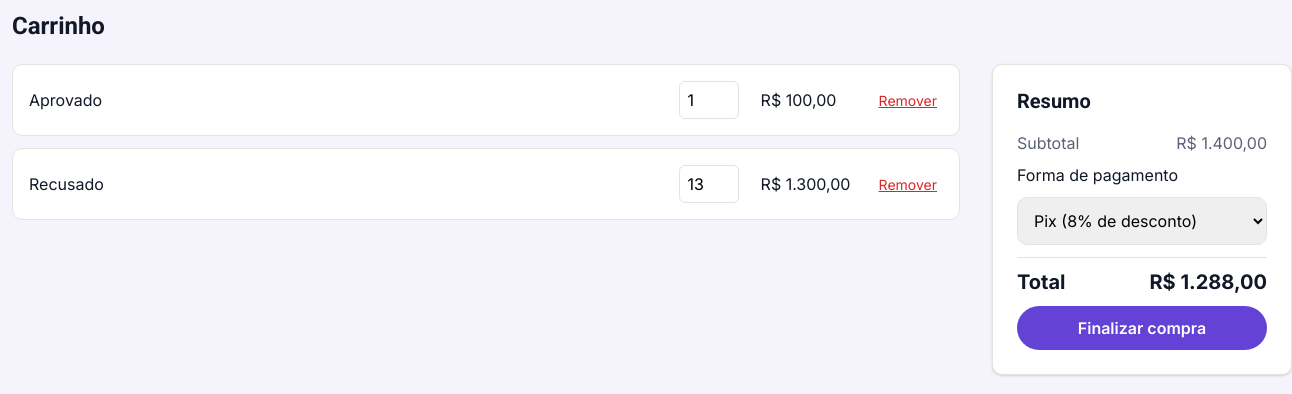
Test: Cart › mostra resultado misto quando um item aprova e outro é recusado
Step 1. Click the button "Finalizar compra" → coordinates (1142, 328), box left=1017, top=306, right=1267, bottom=350
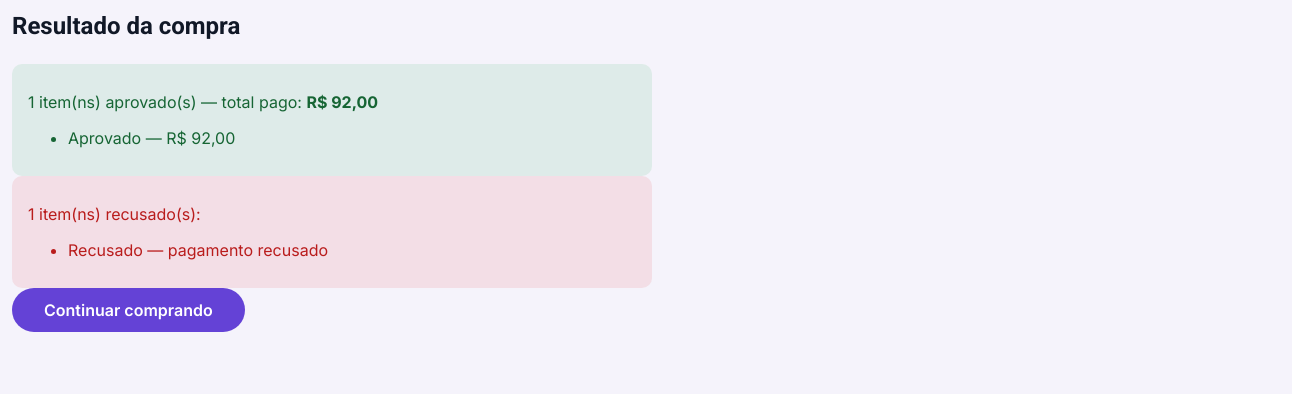
Expected: the text "1 item(ns) aprovado(s) — total pago: R$ 92,00" is shown, left=28, top=92, right=378, bottom=112
Expected: the text "1 item(ns) recusado(s):" is shown, left=28, top=204, right=201, bottom=224
Expected: the list item "Aprovado — R$ 92,00" is shown, left=68, top=128, right=235, bottom=148
